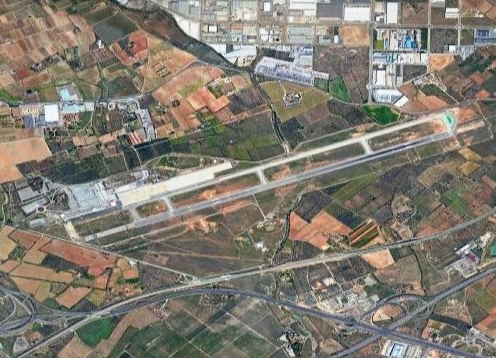airport: (62, 111, 458, 245)
industrial: (145, 1, 496, 105)
motorway: (1, 287, 76, 330), (77, 291, 153, 324), (152, 270, 228, 303), (388, 329, 474, 358), (434, 264, 496, 302), (370, 292, 432, 330), (229, 255, 315, 281), (314, 239, 400, 265), (18, 323, 78, 358), (228, 288, 309, 313), (309, 310, 390, 335), (397, 221, 465, 246), (465, 199, 496, 225)
